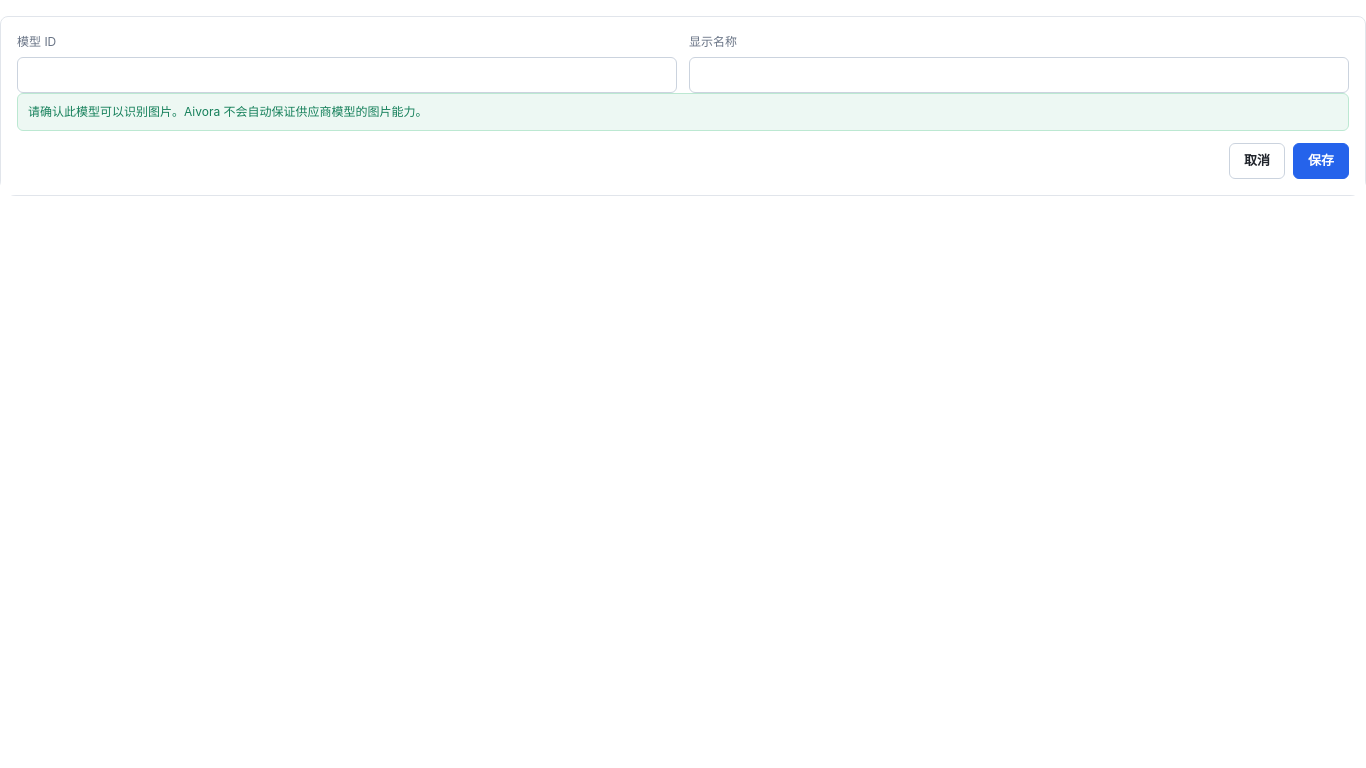
ModelEditor › shows a save failure and retains the form
Type "example" into the field labelled "模型 ID" at (347, 75), box [17, 57, 677, 93]
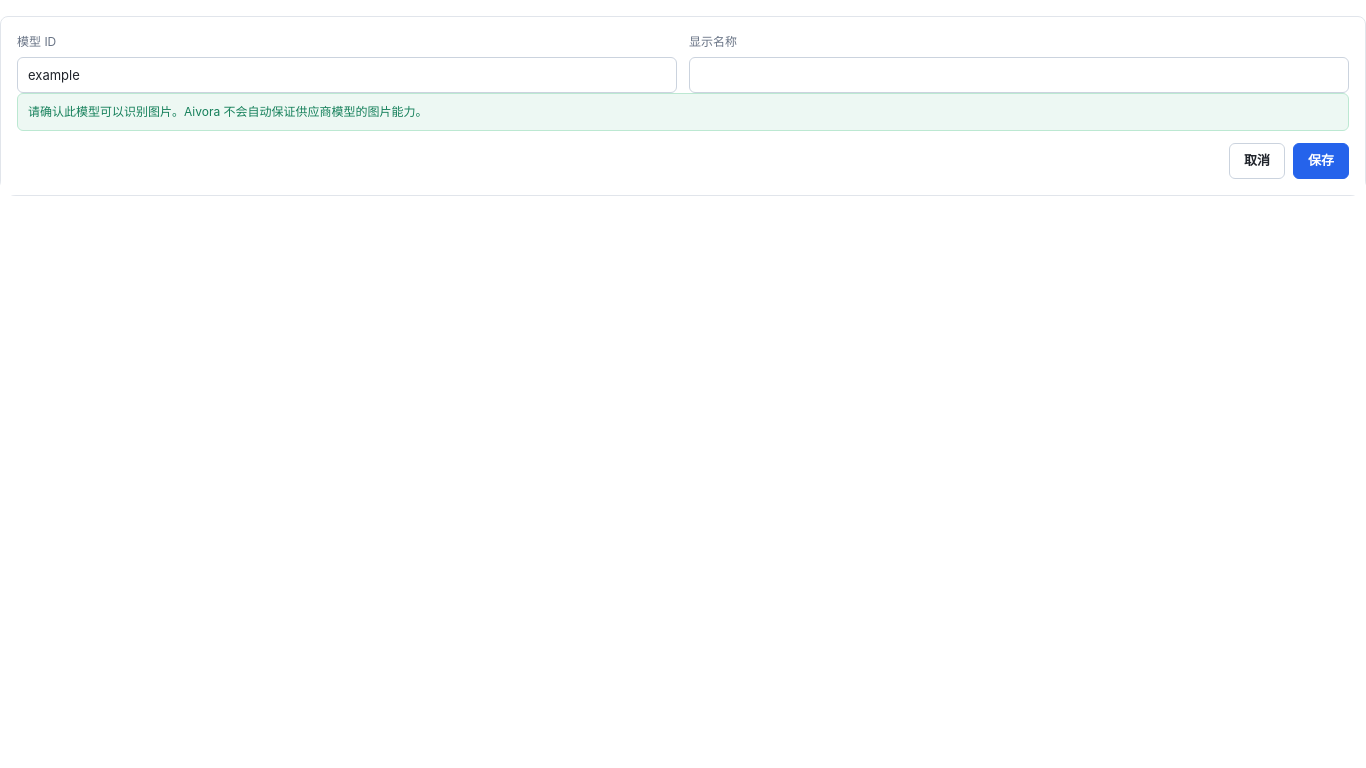
Click the button "保存" at (1321, 161), box [1293, 143, 1349, 179]
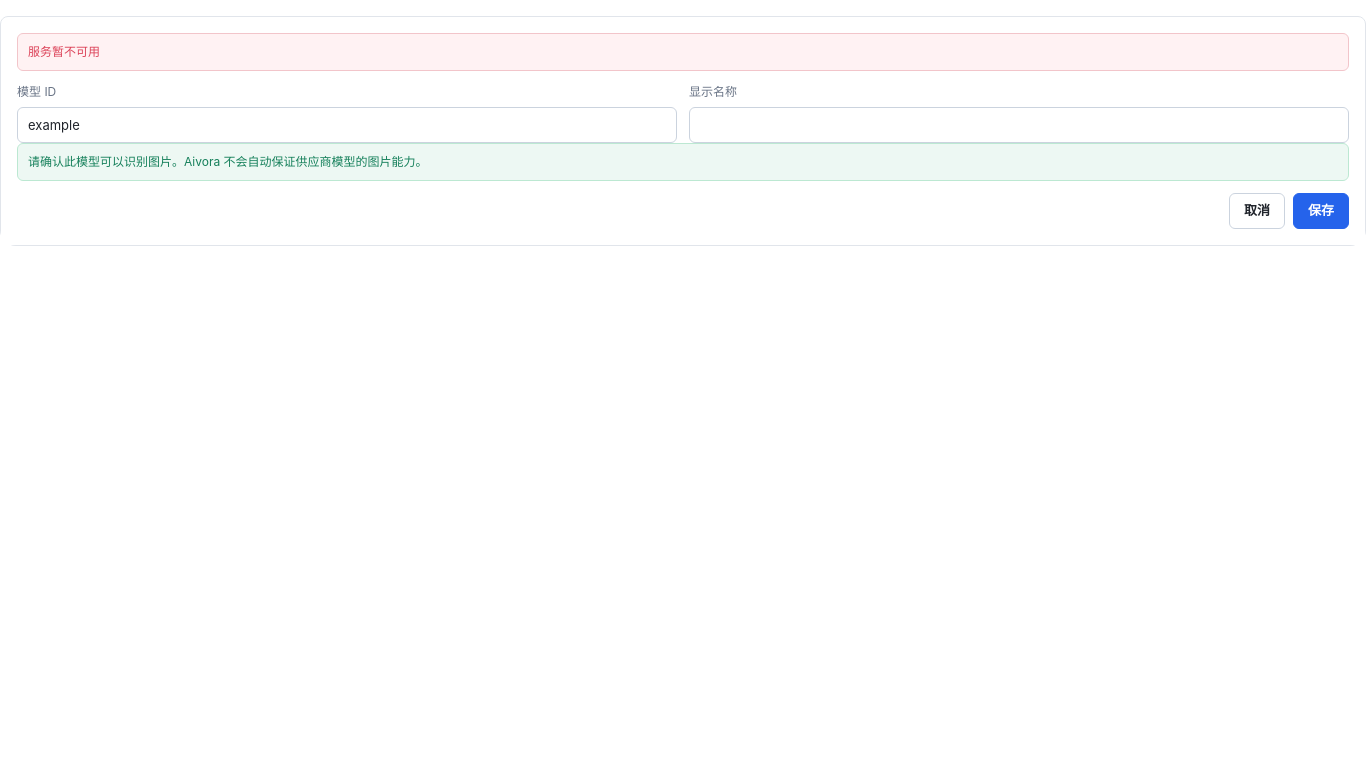
Expected: the message reads "服务暂不可用", [28, 44, 100, 59]
